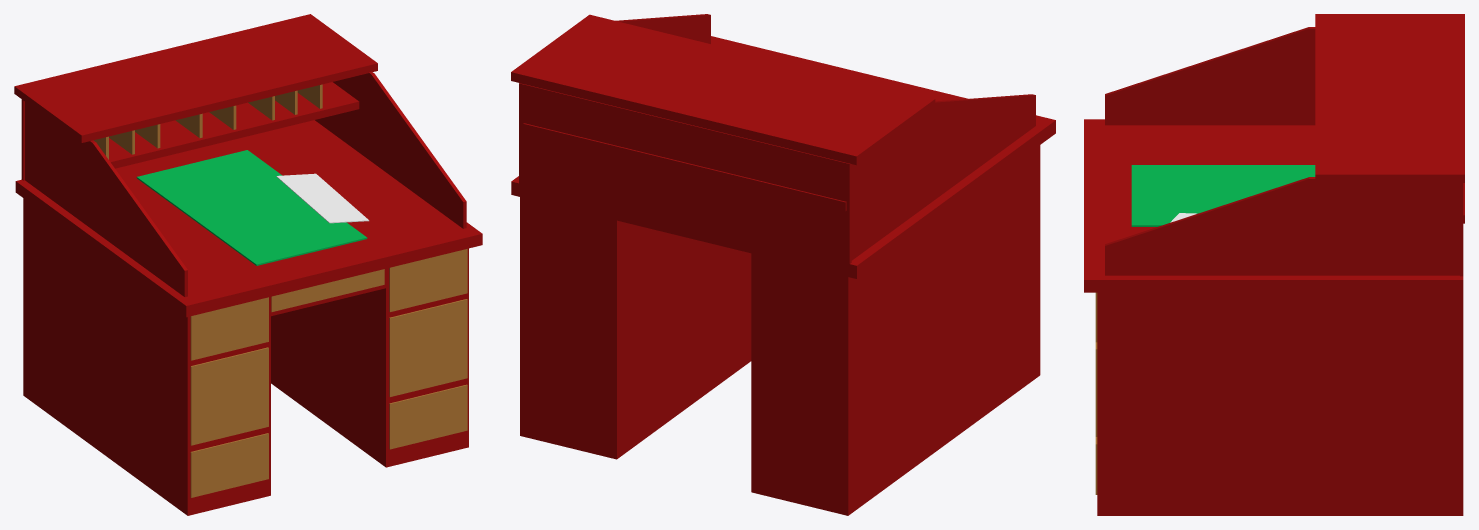
The model's file is sh-contrib-desk-ravey.glb.
The picture shows the model from 3 angles, left to right: view 1: azimuth 30°, elevation 25°; view 2: azimuth 150°, elevation 25°; view 3: azimuth 270°, elevation 25°; orthographic projection. The views are drawn at different scales.
Visible parts, largest first — view 1: left_pillar, top_left_drawer, left_top, blotter, paper; view 2: left_pillar, left_top; view 3: left_pillar, left_top, blotter, top_left_drawer.
Part boxes in pixels (x1,y1,x2,y2): left_pillar: [14, 14, 482, 515]; top_left_drawer: [94, 84, 467, 497]; left_top: [25, 71, 466, 296]; blotter: [136, 150, 367, 265]; paper: [276, 173, 369, 223]; left_pillar: [511, 14, 1055, 515]; left_top: [615, 14, 1035, 260]; left_pillar: [1084, 14, 1464, 515]; left_top: [1105, 27, 1462, 275]; blotter: [1131, 165, 1315, 226]; top_left_drawer: [1095, 292, 1097, 494].
Size of the model in its own units: 1 by 1 by 1.
